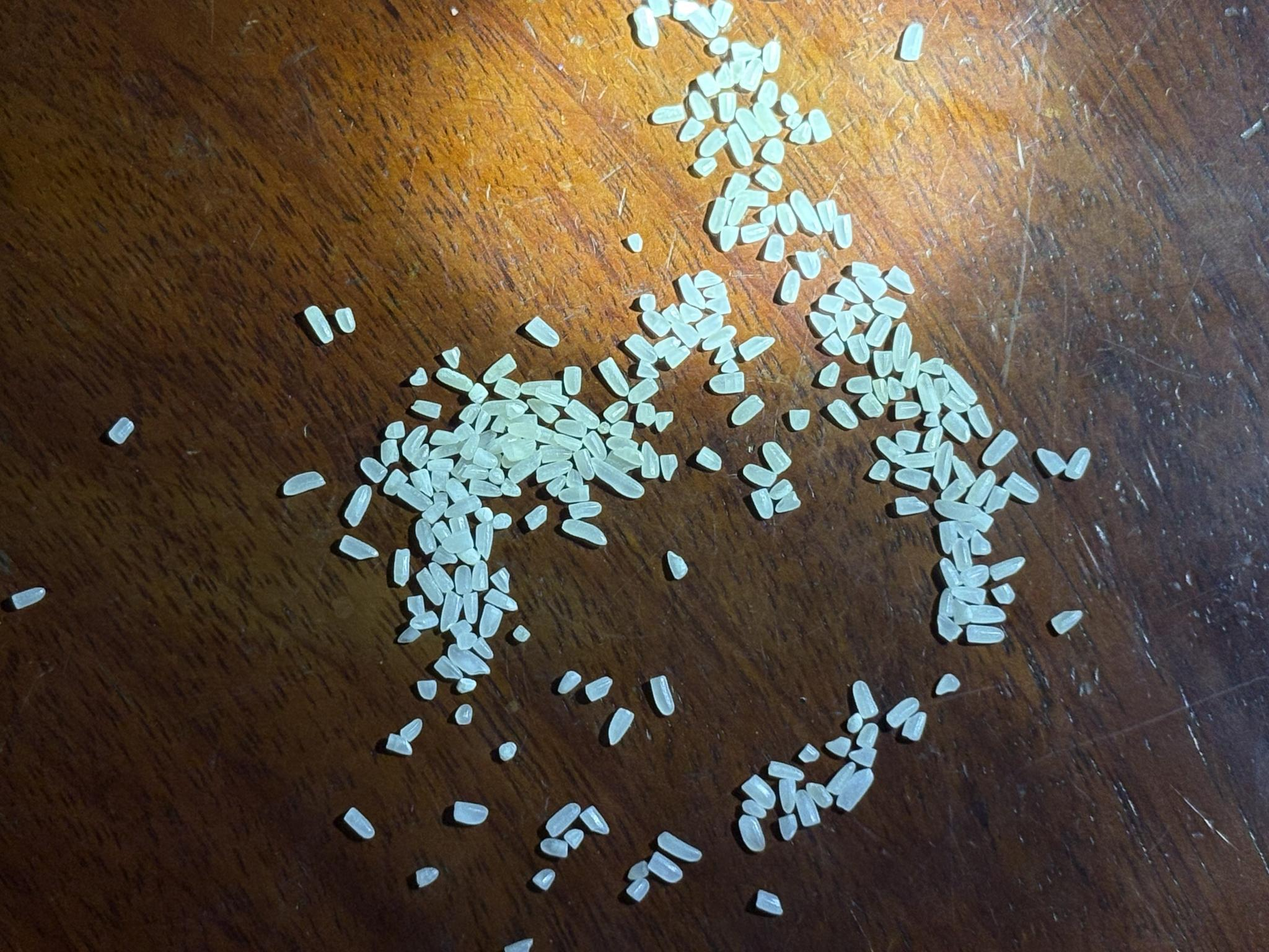Rice-th-y-nh: (589, 452, 646, 505), (934, 491, 995, 539), (834, 766, 876, 814), (788, 188, 825, 239), (940, 360, 979, 407), (885, 321, 919, 374), (446, 641, 491, 681), (561, 513, 608, 551), (980, 426, 1018, 471), (656, 829, 703, 865), (595, 355, 632, 400), (341, 482, 376, 529), (722, 121, 756, 169), (927, 439, 959, 489), (630, 2, 664, 49), (337, 528, 379, 566), (301, 303, 337, 346), (544, 800, 582, 840), (282, 465, 325, 500), (644, 673, 678, 717), (646, 848, 684, 887), (963, 467, 999, 508), (434, 588, 466, 634), (507, 447, 544, 486), (729, 390, 765, 430), (733, 105, 767, 147), (735, 813, 769, 854), (604, 706, 637, 747), (895, 22, 928, 63), (849, 679, 881, 721), (911, 372, 942, 415), (963, 598, 1006, 629), (738, 329, 775, 365), (750, 100, 784, 139), (965, 618, 1006, 650), (989, 551, 1026, 586), (452, 796, 489, 831), (740, 775, 777, 810), (564, 397, 602, 431), (939, 408, 973, 446), (415, 566, 446, 607), (742, 458, 778, 493), (702, 320, 738, 355), (482, 351, 518, 386), (824, 760, 857, 798), (676, 273, 709, 311), (761, 438, 793, 477), (792, 789, 823, 829), (885, 695, 920, 730), (623, 333, 659, 367), (709, 367, 746, 400), (1001, 473, 1039, 505), (444, 491, 482, 523), (863, 311, 894, 350), (705, 195, 735, 235), (1035, 443, 1068, 479), (395, 483, 432, 515), (535, 456, 572, 488), (475, 602, 506, 640), (1062, 445, 1093, 483), (896, 444, 935, 474), (399, 423, 429, 462), (481, 394, 526, 420), (826, 397, 860, 431), (626, 374, 659, 409), (525, 315, 560, 348), (636, 440, 664, 481), (964, 402, 995, 439), (947, 536, 977, 574), (805, 107, 835, 145), (767, 756, 805, 786), (436, 365, 474, 395), (669, 318, 703, 351), (343, 806, 376, 840), (686, 7, 720, 40), (1049, 605, 1083, 638), (503, 434, 537, 467), (792, 246, 824, 281), (875, 433, 907, 468), (854, 271, 889, 303), (520, 373, 563, 399), (898, 350, 925, 391), (776, 268, 805, 306), (894, 465, 933, 493), (753, 162, 785, 196), (652, 99, 687, 130), (872, 292, 907, 323), (388, 547, 415, 587), (581, 429, 611, 465), (813, 196, 842, 233), (772, 201, 801, 238), (737, 57, 766, 94), (536, 439, 573, 468), (829, 212, 857, 250), (883, 264, 916, 296), (527, 395, 561, 426), (754, 885, 785, 919), (948, 581, 987, 608), (606, 445, 645, 472), (894, 491, 929, 521), (734, 183, 769, 213), (933, 518, 961, 555), (412, 518, 440, 555), (10, 584, 47, 612), (773, 778, 800, 816), (725, 190, 752, 228), (807, 308, 839, 340), (578, 805, 610, 837), (639, 308, 672, 339), (358, 454, 389, 487), (686, 89, 716, 123), (982, 483, 1012, 517), (584, 672, 614, 706), (899, 709, 929, 743), (567, 496, 603, 524), (534, 384, 570, 412), (471, 521, 496, 561), (694, 310, 725, 342), (721, 170, 752, 202), (748, 487, 777, 521), (759, 134, 788, 168), (844, 332, 872, 367), (483, 587, 519, 614), (758, 39, 785, 75), (466, 428, 497, 459), (833, 276, 865, 306), (937, 556, 966, 589), (698, 127, 727, 160), (408, 466, 437, 499), (381, 466, 410, 499), (760, 232, 788, 266), (570, 447, 598, 481), (949, 454, 977, 488), (714, 89, 741, 124), (539, 832, 570, 862), (692, 264, 723, 294), (934, 613, 964, 644), (869, 348, 898, 380), (694, 442, 723, 474), (488, 428, 520, 457), (506, 415, 539, 443), (428, 560, 455, 594), (468, 558, 494, 593), (805, 780, 834, 811), (694, 68, 722, 100), (729, 36, 761, 64), (664, 549, 691, 582), (432, 654, 465, 681), (850, 256, 883, 283), (550, 427, 583, 454), (450, 563, 476, 597), (557, 482, 591, 508), (893, 426, 922, 456), (708, 0, 738, 29), (939, 477, 968, 507), (384, 730, 414, 759), (677, 114, 705, 145), (857, 390, 885, 421), (443, 529, 474, 557), (948, 596, 975, 628), (522, 502, 549, 534), (560, 364, 586, 397), (459, 591, 484, 625), (468, 476, 502, 501), (663, 343, 692, 372), (493, 373, 522, 402), (739, 219, 769, 247), (554, 416, 589, 440), (755, 78, 782, 109), (832, 308, 858, 340), (605, 431, 639, 455), (817, 290, 846, 318), (989, 580, 1018, 608), (652, 332, 681, 360), (409, 607, 439, 634), (702, 279, 732, 306), (716, 223, 742, 254), (656, 452, 682, 483), (775, 811, 801, 842), (668, 0, 703, 23), (921, 424, 946, 456), (421, 498, 449, 526), (849, 299, 877, 327), (941, 388, 969, 416), (601, 398, 629, 426), (893, 398, 922, 425), (444, 476, 471, 505), (934, 670, 961, 699), (788, 118, 815, 147), (961, 561, 990, 588), (968, 528, 994, 558), (848, 744, 878, 770), (332, 305, 358, 335), (410, 397, 442, 421), (846, 371, 874, 398), (107, 416, 134, 444), (821, 330, 847, 359), (556, 668, 582, 697), (398, 716, 424, 745), (824, 734, 853, 760), (787, 404, 812, 434), (429, 425, 460, 449), (705, 292, 733, 318), (413, 863, 439, 891), (713, 61, 738, 90), (817, 360, 842, 389), (459, 432, 484, 461), (855, 721, 880, 750), (377, 437, 401, 467), (869, 376, 892, 407), (930, 375, 953, 406), (677, 300, 704, 326), (774, 491, 801, 517), (446, 514, 473, 540), (692, 153, 718, 180), (531, 865, 557, 892), (634, 400, 659, 428), (740, 797, 768, 822), (712, 338, 737, 366), (471, 446, 499, 471), (608, 417, 636, 442), (460, 460, 488, 485), (489, 566, 513, 595), (935, 587, 957, 618), (920, 353, 946, 379), (625, 877, 651, 903), (769, 477, 794, 504), (867, 457, 892, 484), (408, 442, 432, 470), (544, 474, 569, 500), (661, 301, 685, 328), (431, 545, 459, 568), (725, 58, 748, 86), (471, 635, 495, 661), (415, 676, 439, 702), (501, 934, 535, 952), (641, 0, 673, 19), (452, 420, 477, 444), (797, 741, 821, 766), (458, 401, 482, 426), (626, 858, 650, 883), (429, 467, 453, 492), (884, 376, 907, 402), (456, 545, 482, 568), (405, 592, 428, 618), (431, 518, 454, 544), (440, 345, 463, 371), (563, 826, 586, 852), (427, 454, 454, 476), (561, 467, 585, 491), (635, 358, 660, 381), (779, 91, 801, 117), (453, 702, 475, 728), (472, 409, 493, 436), (758, 201, 779, 228), (384, 418, 407, 442), (652, 409, 674, 434), (709, 33, 731, 58), (467, 380, 489, 405), (455, 630, 479, 652), (497, 738, 518, 763), (499, 477, 522, 499), (637, 291, 659, 314), (449, 617, 473, 638), (397, 625, 422, 645), (455, 675, 478, 696), (429, 490, 450, 513), (408, 366, 429, 388), (719, 356, 742, 376), (845, 712, 865, 735), (922, 409, 942, 431), (474, 504, 494, 526), (492, 512, 512, 533), (489, 413, 509, 434), (487, 465, 507, 486), (512, 624, 532, 645), (626, 231, 645, 253), (784, 111, 803, 131), (596, 420, 612, 436)
